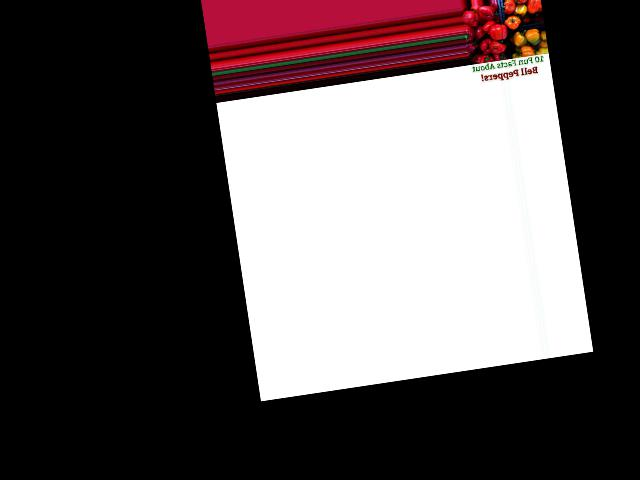bell_pepper: (475, 49, 498, 66)
